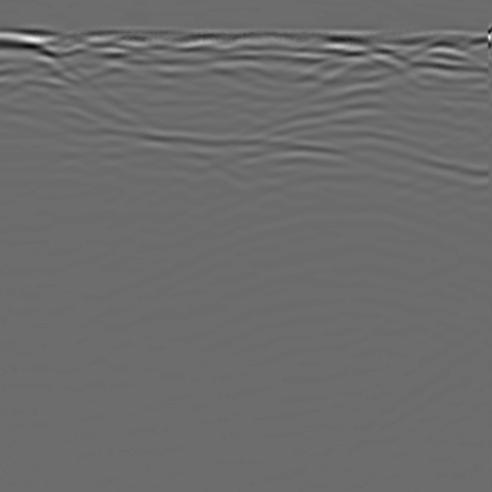hyperbola: (228, 112, 471, 240)
